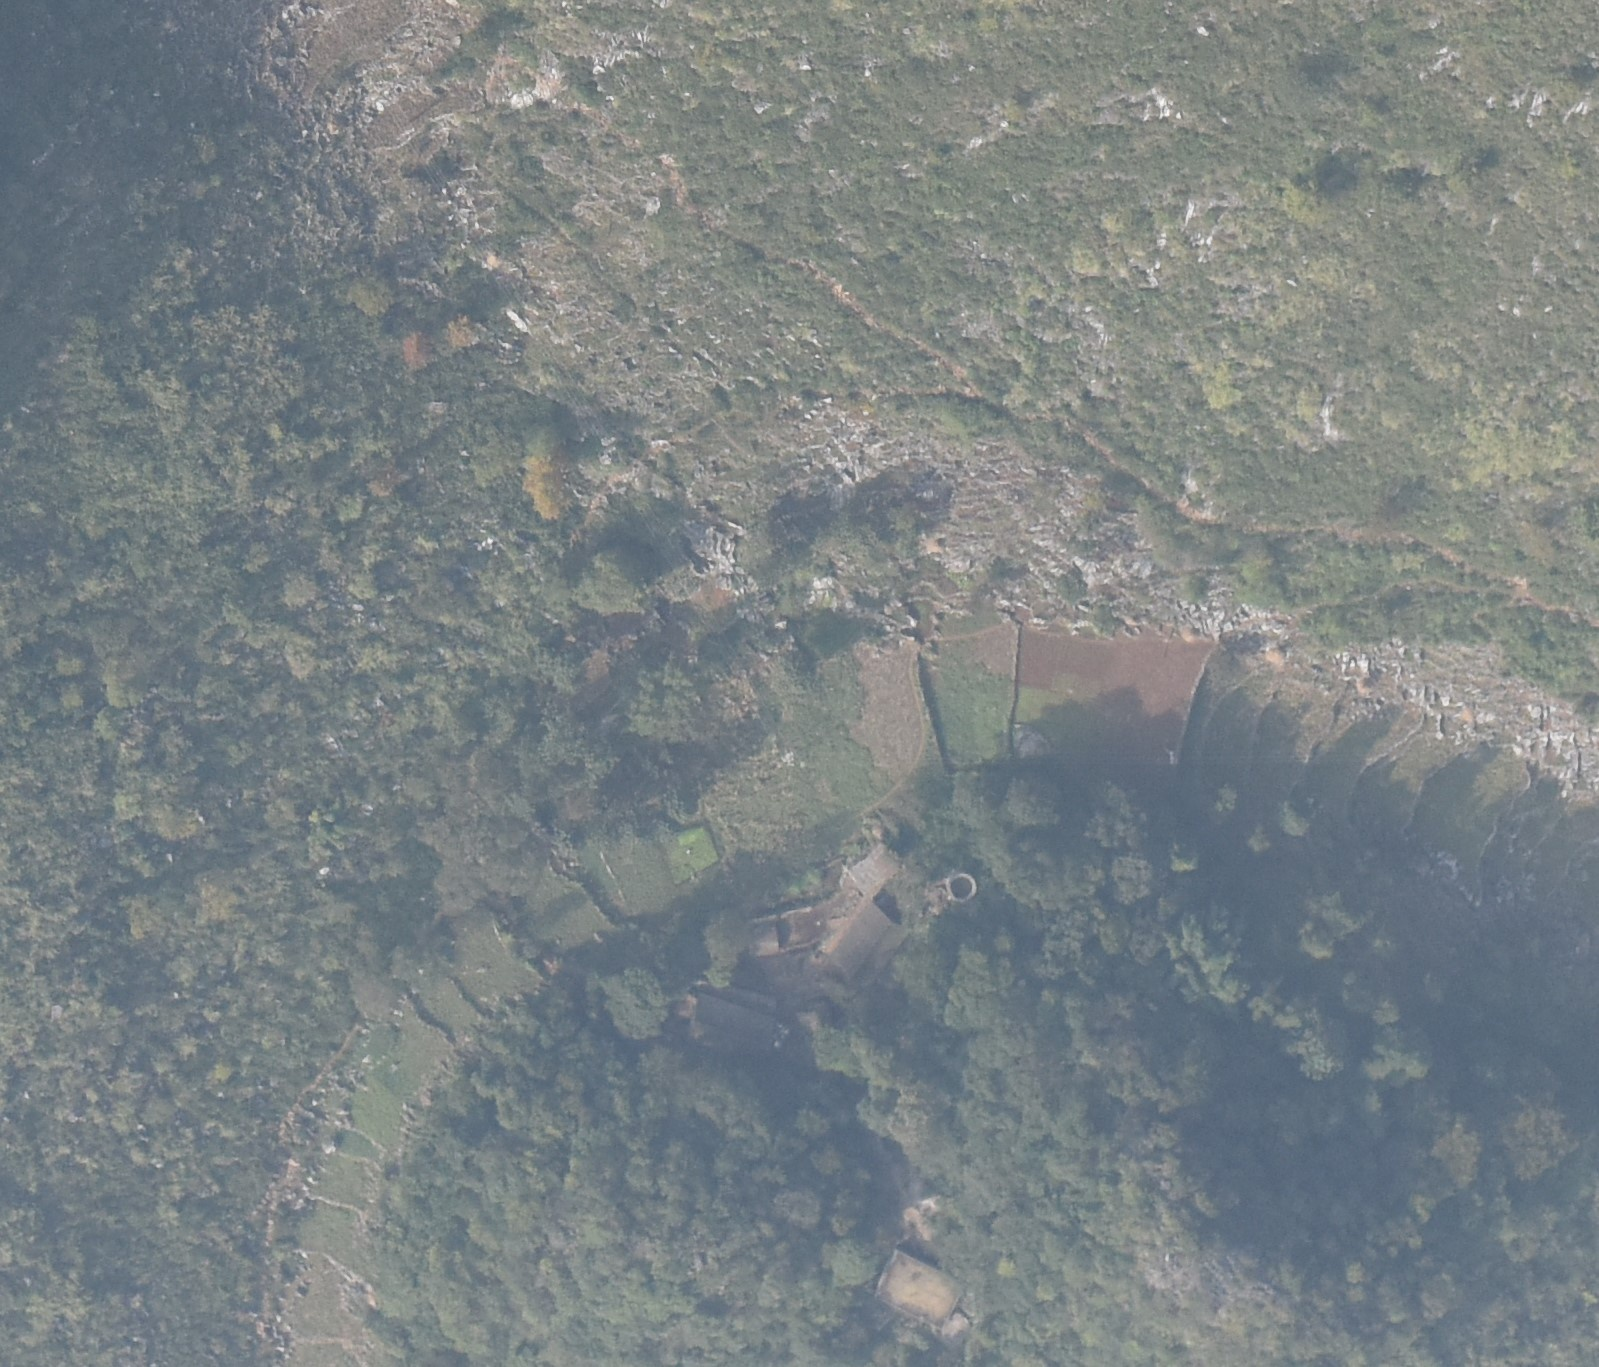building: (873, 1247, 964, 1330), (829, 900, 906, 987), (690, 982, 777, 1050), (844, 842, 901, 899), (750, 915, 780, 957), (600, 436, 620, 464), (781, 751, 795, 766)
